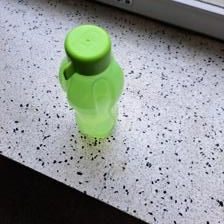bottle: (57, 23, 124, 139)
